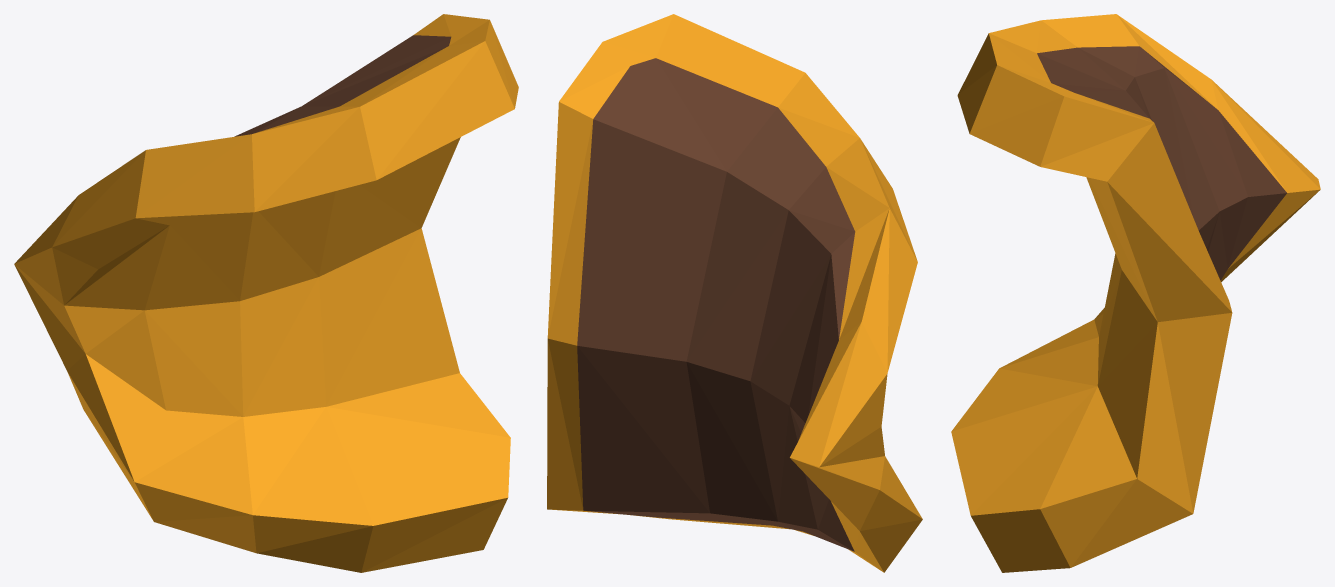
Rendered from Pauldron 05.FBX.
3 views of the same model, side by side, from view 1: azimuth 30°, elevation 25°; view 2: azimuth 150°, elevation 25°; view 3: azimuth 270°, elevation 25° (orthographic).
Visible parts, largest first — view 1: Pauldron 05; view 2: Pauldron 05; view 3: Pauldron 05.
Boxes of the visible parts, left/top/right/bottom form: Pauldron 05: left=14, top=14, right=518, bottom=572; Pauldron 05: left=547, top=14, right=922, bottom=572; Pauldron 05: left=951, top=14, right=1320, bottom=572.
Bounding box in the file's own units: 15.99 × 20.43 × 13.48.
Materials: 1 (1 with a texture image).
